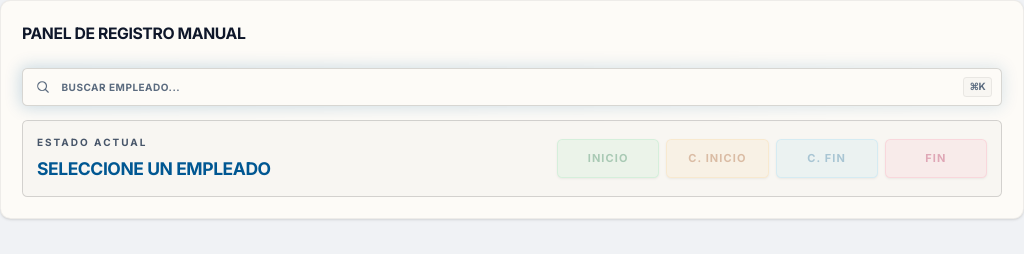
Test: ClockingPanel Component › should select an employee and enable the 'Inicio' button
Step 1. Type "Juan" into the field with placeholder "Buscar empleado..." → (512, 87), box [22,68,1002,106]
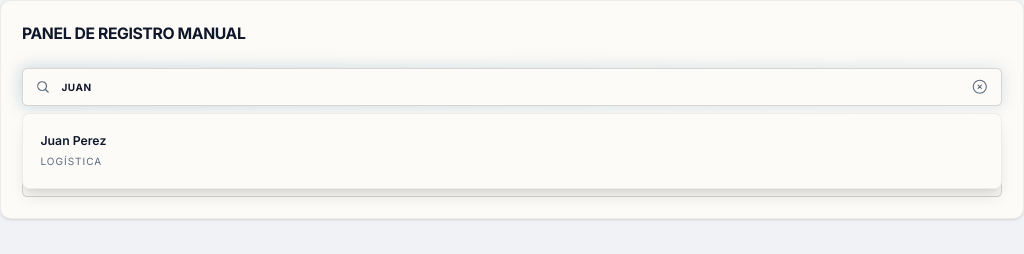
Step 2. Click the text "Juan Perez" → (73, 140), box [40,132,106,149]
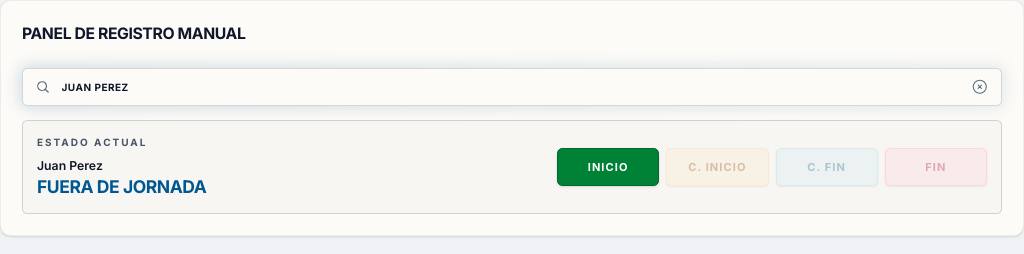
Result: the text "Fuera de Jornada" is shown at [37,176,206,196]
Result: the button "Inicio" is enabled at [557,148,659,186]
